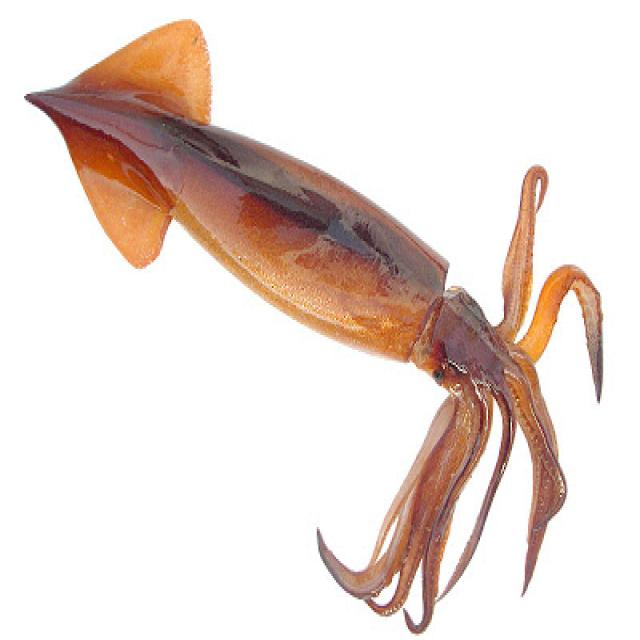SQUID: (6, 26, 640, 553)
